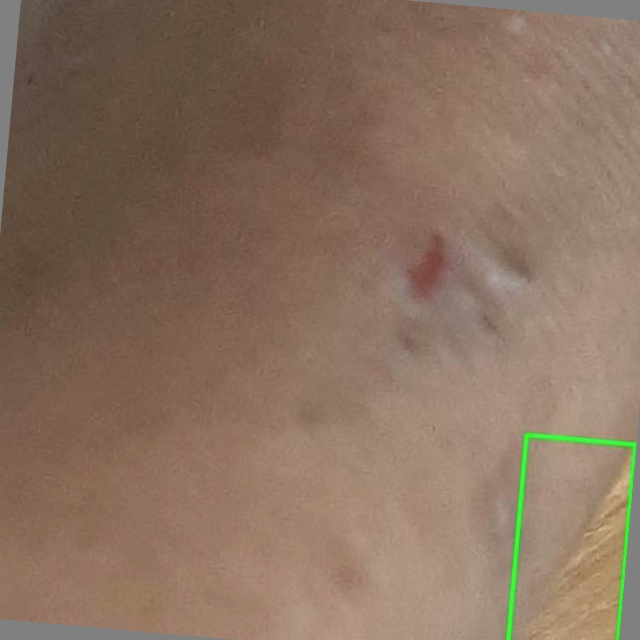Atopic Dermatitis: (508, 435, 635, 639)
